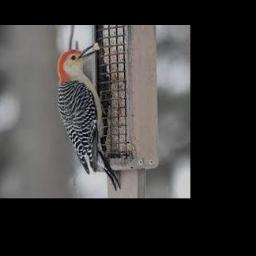Woodpecker: (58, 43, 121, 190)
